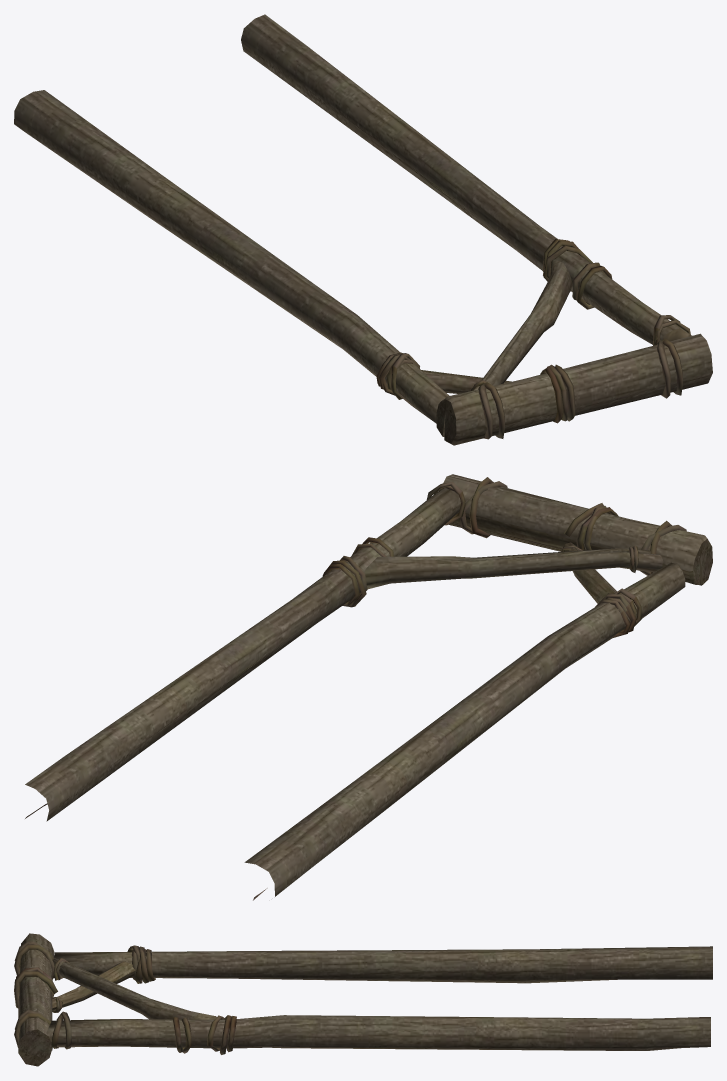
Rendered from GEN_Wood_Roof_Support_01A_LOD0-transformed.glb.
3 renders of one model, top to bottom at view 1: azimuth 30°, elevation 25°; view 2: azimuth 150°, elevation 25°; view 3: azimuth 270°, elevation 25°, orthographic. The views are drawn at different scales.
Visible parts, largest first — view 1: GEN_Wood_Roof_Support_01A_LOD0; view 2: GEN_Wood_Roof_Support_01A_LOD0; view 3: GEN_Wood_Roof_Support_01A_LOD0.
Part boxes in pixels (box(x1,y1,x2,y2)): GEN_Wood_Roof_Support_01A_LOD0: box(14, 14, 712, 445); GEN_Wood_Roof_Support_01A_LOD0: box(25, 474, 712, 900); GEN_Wood_Roof_Support_01A_LOD0: box(14, 933, 712, 1066).
Bounding box in the file's own units: 0.0206 × 0.00509 × 0.0607.
Materials: 2 (2 with a texture image).
